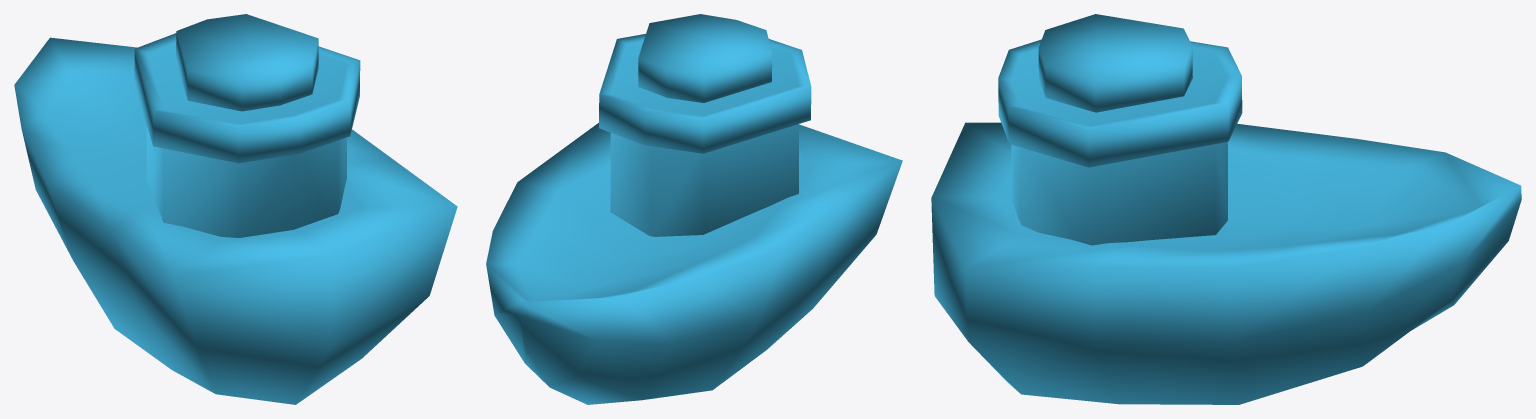
File: Boat.glb
3 views of the same model, side by side, from view 1: azimuth 30°, elevation 25°; view 2: azimuth 150°, elevation 25°; view 3: azimuth 270°, elevation 25° (orthographic). The views are drawn at different scales.
Visible parts, largest first — view 1: Boat; view 2: Boat; view 3: Boat.
Part boxes in pixels (left/top/right/bottom): Boat: left=14, top=14, right=457, bottom=404; Boat: left=486, top=14, right=902, bottom=404; Boat: left=931, top=14, right=1521, bottom=404.
Bounding box in the file's own units: 1.06 × 1.17 × 1.81.
